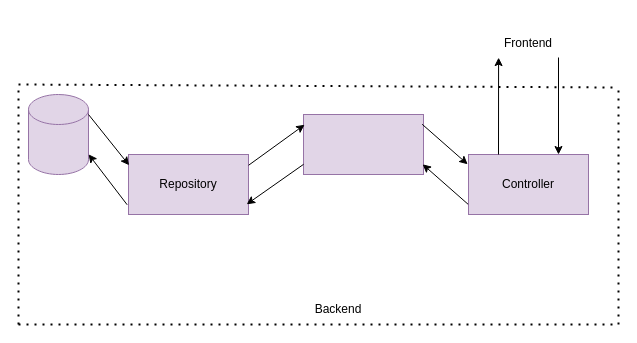
The diagram is 637 pixels wide and 343 high, and some of its shapes have lost their labels. The shapes that lost their labels are listed below. From the top down, each one's centre as x and y in pixels, then its label:
At point (58, 134): "Database".
At point (363, 144): "Service".
